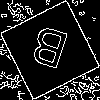B: (25, 25, 71, 79)
